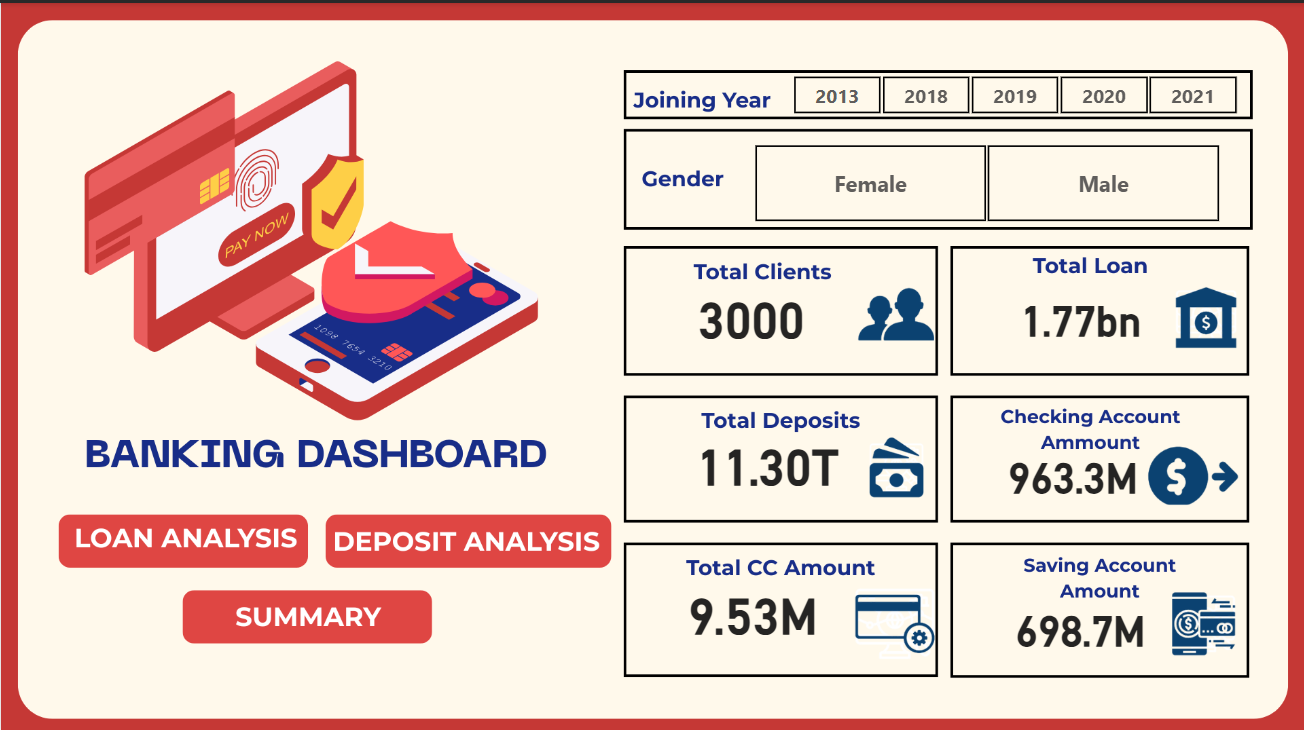

This screenshot's page, from the dashboard's own definition file:
{"tool":"powerbi","page":{"name":"Home","canvas":[1280,720],"ordinal":0},"visuals":[{"type":"card","fields":{"Values":["Sum(Banking.Bank Loans)"]},"box":[944.8,265,230.7,85.9],"z":0},{"type":"card","fields":{"Values":["CountNonNull(Banking.Name)"]},"box":[608.6,262.6,256.4,88.3],"z":1000},{"type":"slicer","fields":{"Values":["Banking.GenderId"]},"box":[714.1,132.5,505.5,88.3],"z":2000},{"type":"card","fields":{"Values":["Sum(Banking.Total deposits)"]},"box":[640.5,414.7,224.5,72.4],"z":3000},{"type":"card","fields":{"Values":["Sum(Banking.Credit Card Balance)"]},"box":[625.8,560.7,224.5,72.4],"z":4000},{"type":"card","fields":{"Values":["Sum(Banking.Checking Accounts)"]},"box":[944.8,425.8,214.7,73.6],"z":5000},{"type":"card","fields":{"Values":["Sum(Banking.Saving Accounts)"]},"box":[952.2,575.5,214.7,73.6],"z":6000},{"type":"slicer","fields":{"Values":["Banking.joining year"]},"box":[752.6,65.6,484.6,48.5],"z":7000},{"type":"actionButton","box":[58.9,499.4,249.1,61.4],"z":8000},{"type":"actionButton","box":[308.6,500,285.2,60.5],"z":9000},{"type":"actionButton","box":[184,572.8,242,60.5],"z":10000}]}

Visuals, with their boxes in screenshot pixels (x1, y1, x2, y2), scaled from the page's 1280x720 canvas onto the 1304x730 screenshot:
card - Sum(Banking.Bank Loans): region(963, 269, 1198, 356)
card - CountNonNull(Banking.Name): region(620, 266, 881, 356)
slicer - Banking.GenderId: region(727, 134, 1242, 224)
card - Sum(Banking.Total deposits): region(653, 420, 881, 494)
card - Sum(Banking.Credit Card Balance): region(638, 568, 866, 642)
card - Sum(Banking.Checking Accounts): region(963, 432, 1181, 506)
card - Sum(Banking.Saving Accounts): region(970, 583, 1189, 658)
slicer - Banking.joining year: region(767, 67, 1260, 116)
actionButton: region(60, 506, 314, 569)
actionButton: region(314, 507, 605, 568)
actionButton: region(187, 581, 434, 642)
